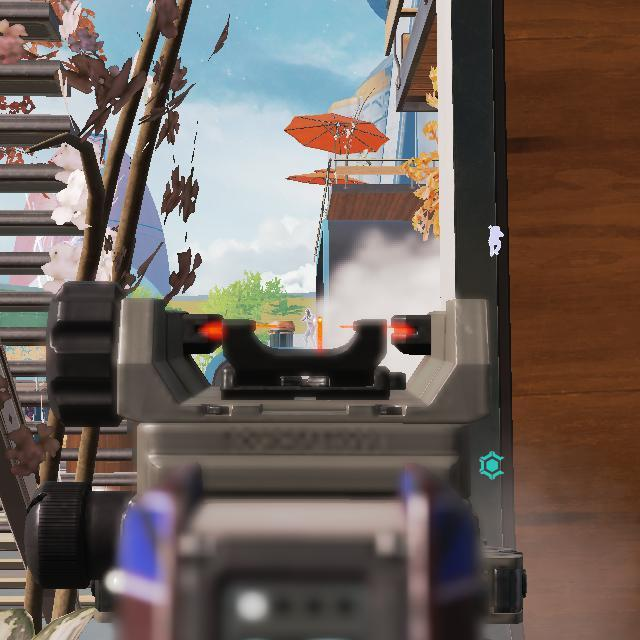avatar: (300, 308, 318, 349)
